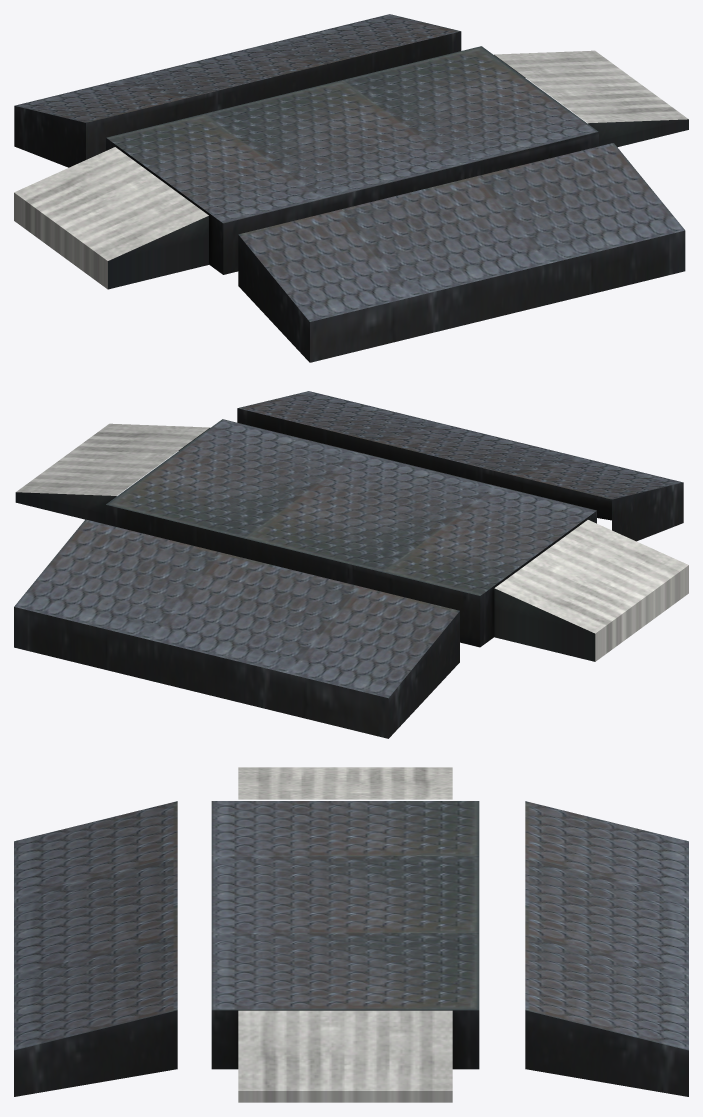
File: way_over.fbx
3 renders of one model, top to bottom at view 1: azimuth 30°, elevation 25°; view 2: azimuth 150°, elevation 25°; view 3: azimuth 270°, elevation 25°, orthographic. The views are drawn at different scales.
Parts seen in each view (by area): view 1: way_over; view 2: way_over; view 3: way_over.
Boxes of the visible parts, <box> form: way_over: <box>14,14,688,362</box>; way_over: <box>14,391,688,738</box>; way_over: <box>14,767,688,1102</box>.
Bounding box in the file's own units: 4.01 × 0.5016 × 3.54.
